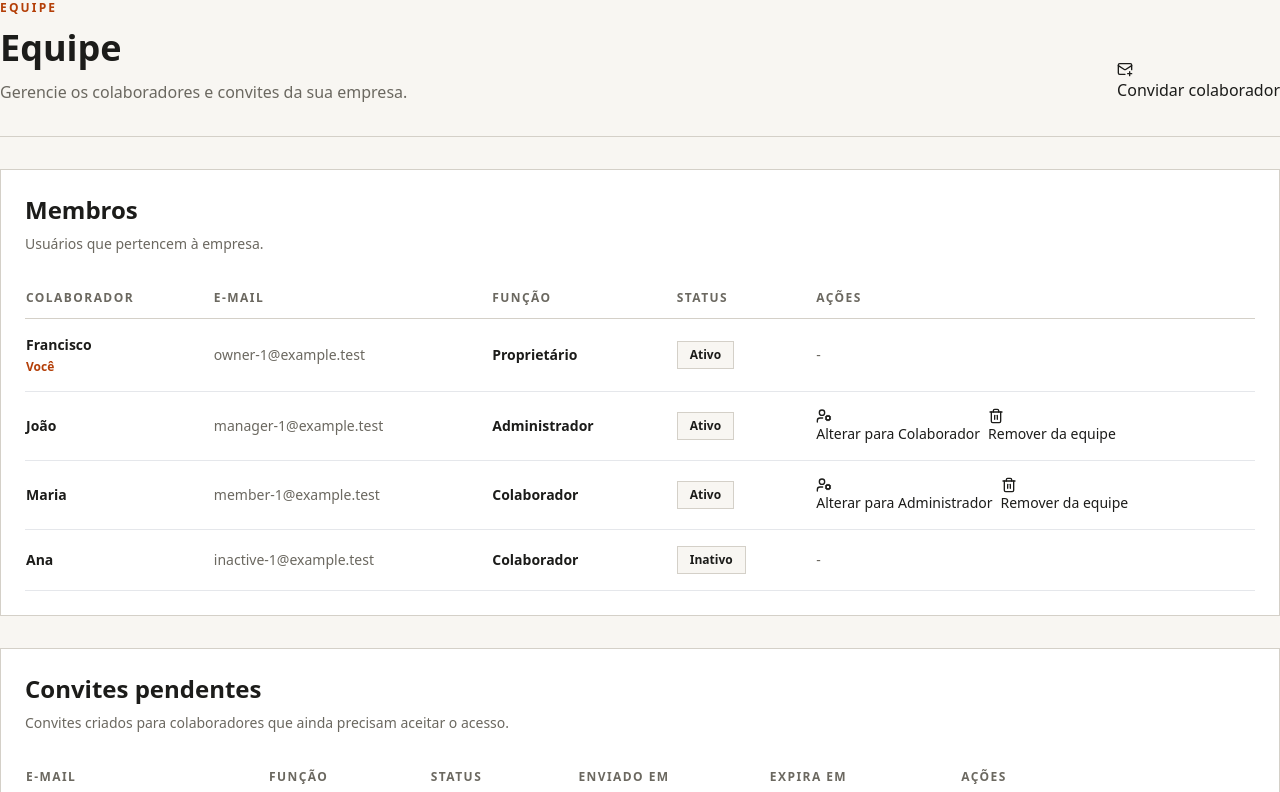
Scenario: TeamPage › submits an invitation, closes the dialog and shows success feedback
The image size is (1280, 792).
Click the button "Convidar colaborador" at (1199, 82), box [1117,61,1279,104]
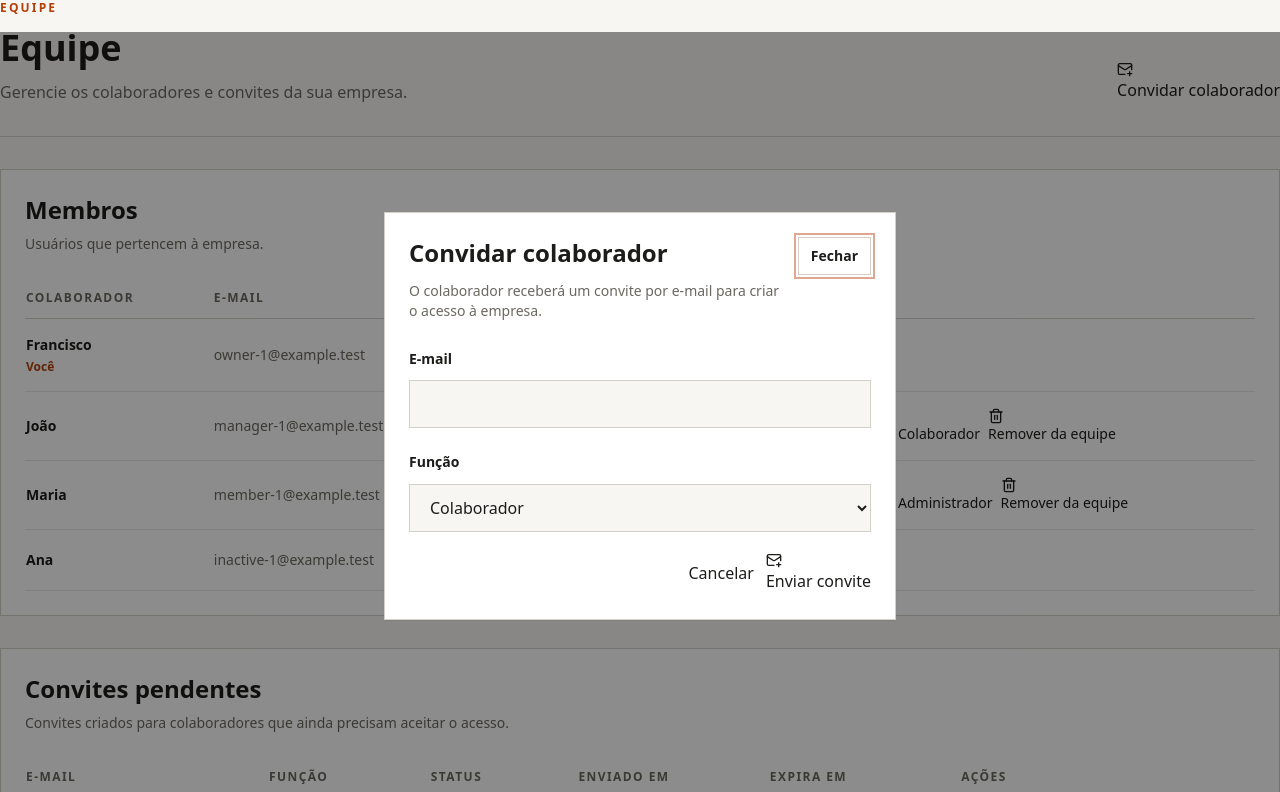
Type " novo@example.test " into the field labelled "E-mail" at (640, 404), box [409,380,871,428]
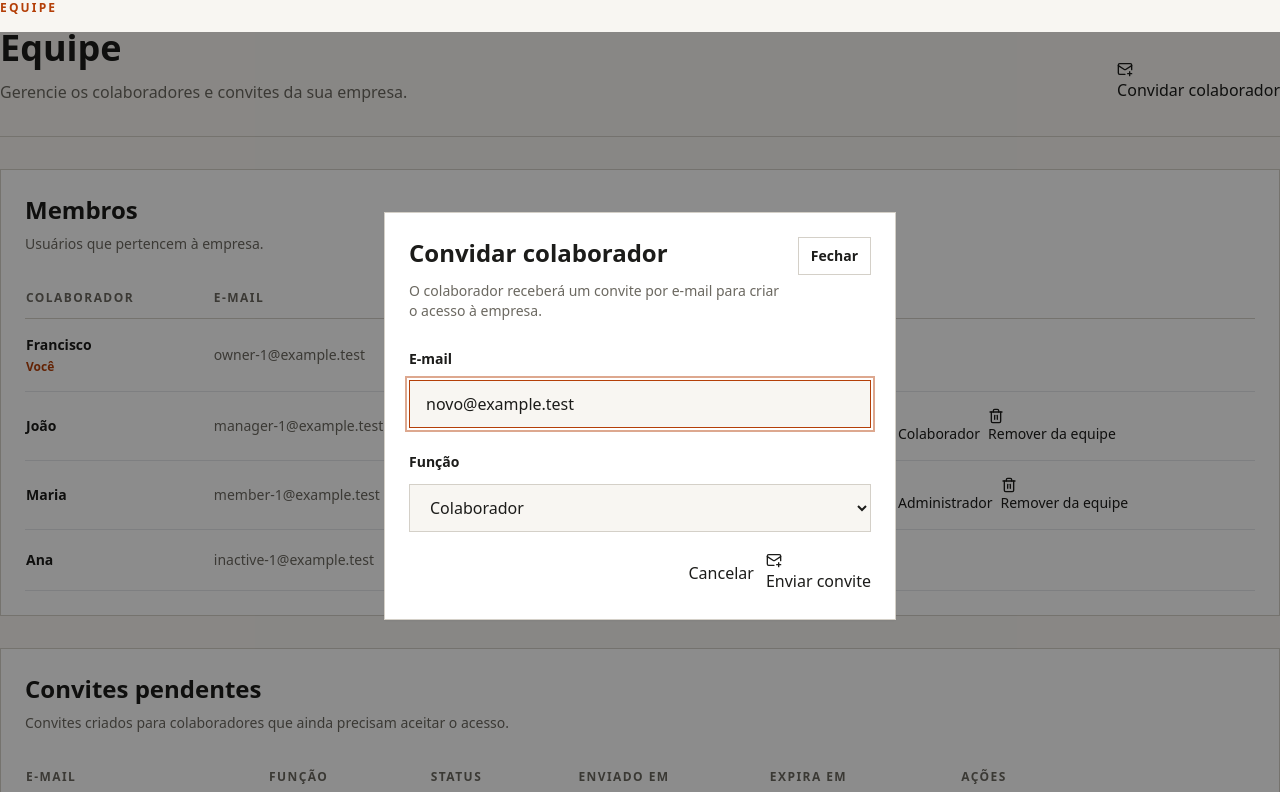
Select "Administrador" in the dropdown labelled "Função" at (640, 508), box [409,484,871,532]
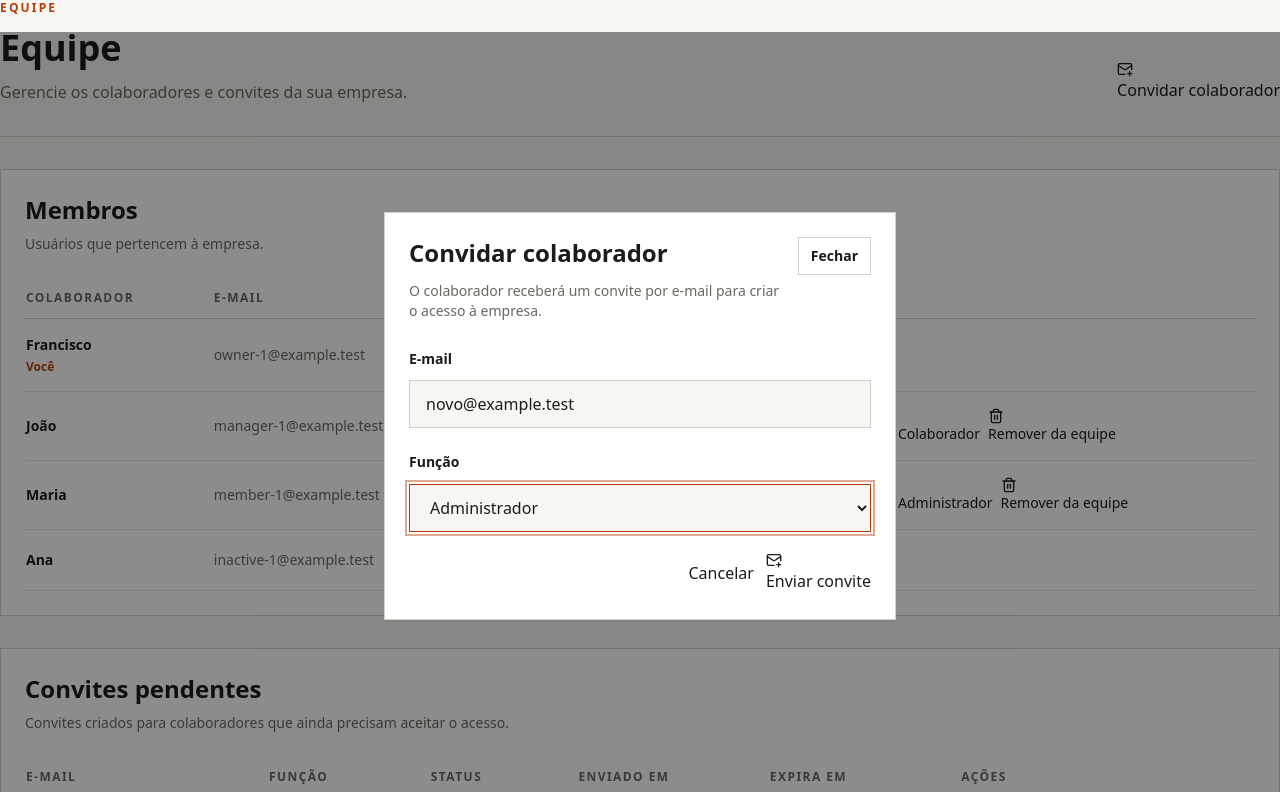
Click the button "Enviar convite" at (818, 573), box [766,552,871,595]
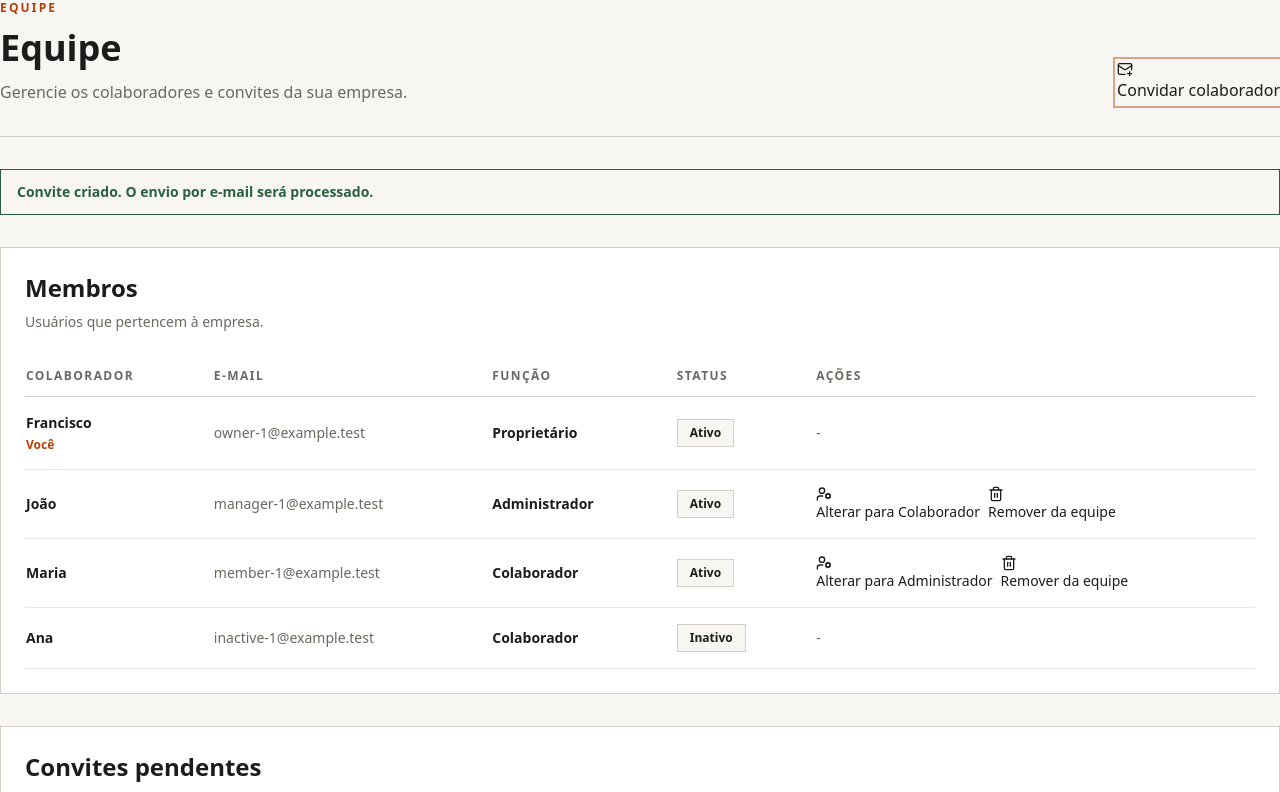
Check: the text "Convite criado. O envio por e-mail será processado." is shown, box [0,169,1279,215]
